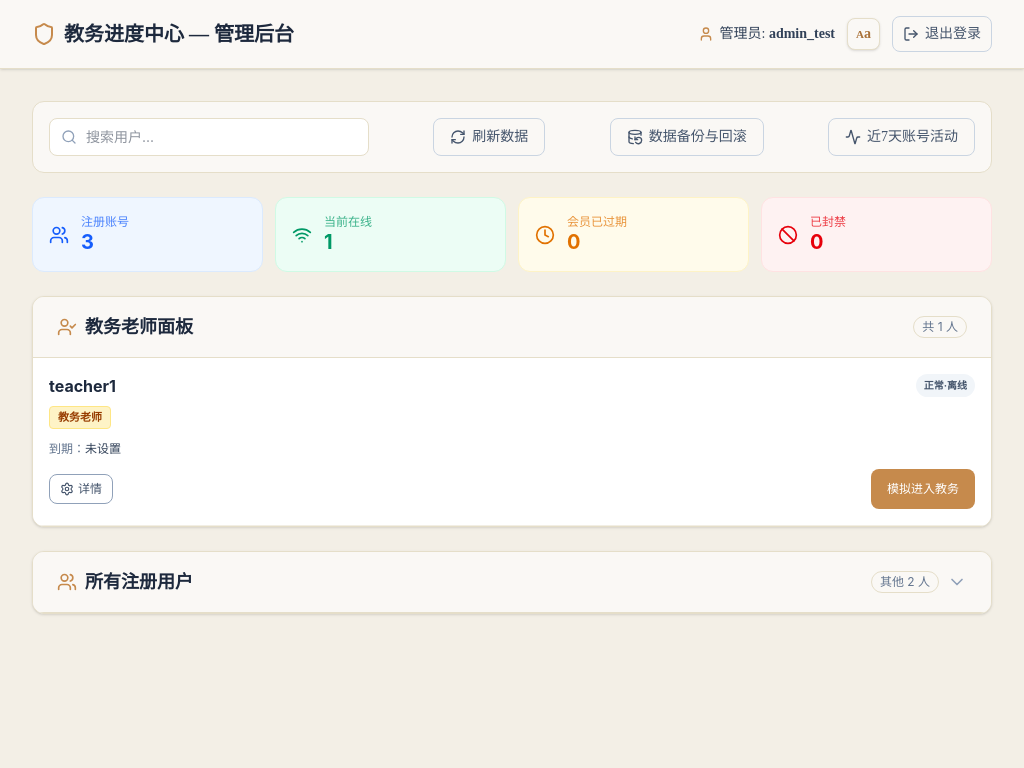
Test: AdminDashboard Component › keeps every primary-admin access action on one right-aligned mobile line
Expected: the text "teacher1" is shown, [49, 374, 116, 398]
What coordinates should you click on to do the following:
click the heading "所有注册用户"
I would click on:
 (139, 582)
Its box is [85, 568, 193, 596].
(page scrolled)
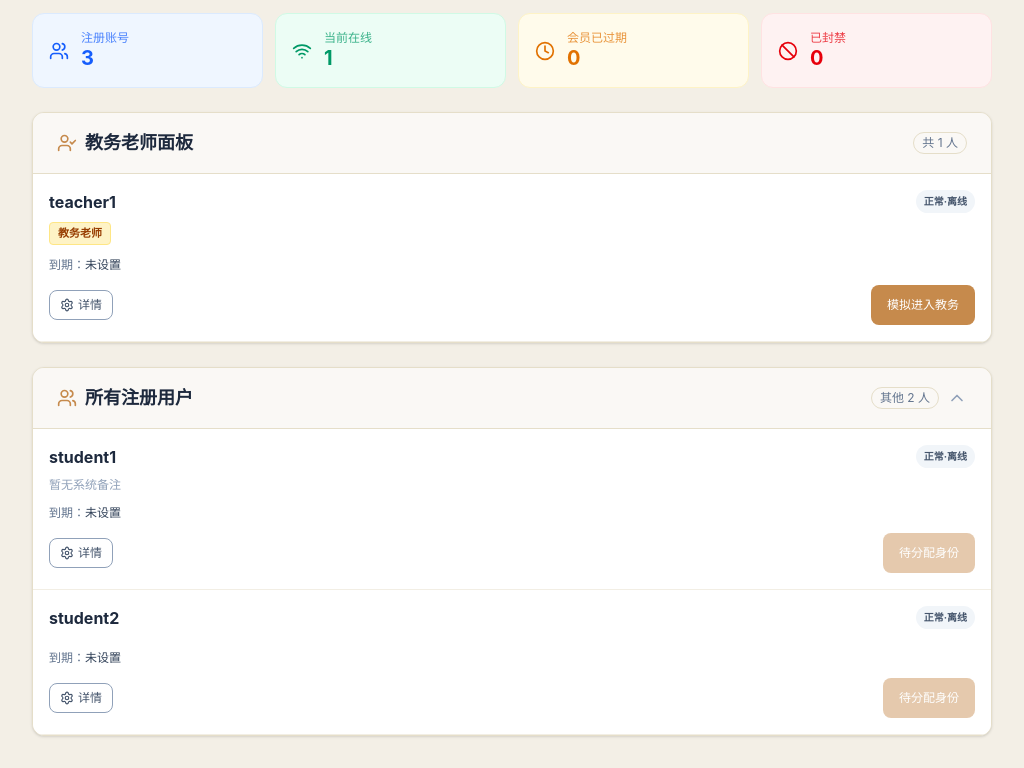
Expected: the number of buttons "模拟进入教务" is 3, [871, 284, 975, 324]; [883, 532, 975, 572]; [883, 678, 975, 718]
Expected: the element "student1 暂无系统备注 正常·离线 到期：未设置 详情 待分配身份" is shown, [33, 428, 991, 590]
Expected: the element "student2 正常·离线 到期：未设置 详情 待分配身份" is shown, [33, 590, 991, 734]
